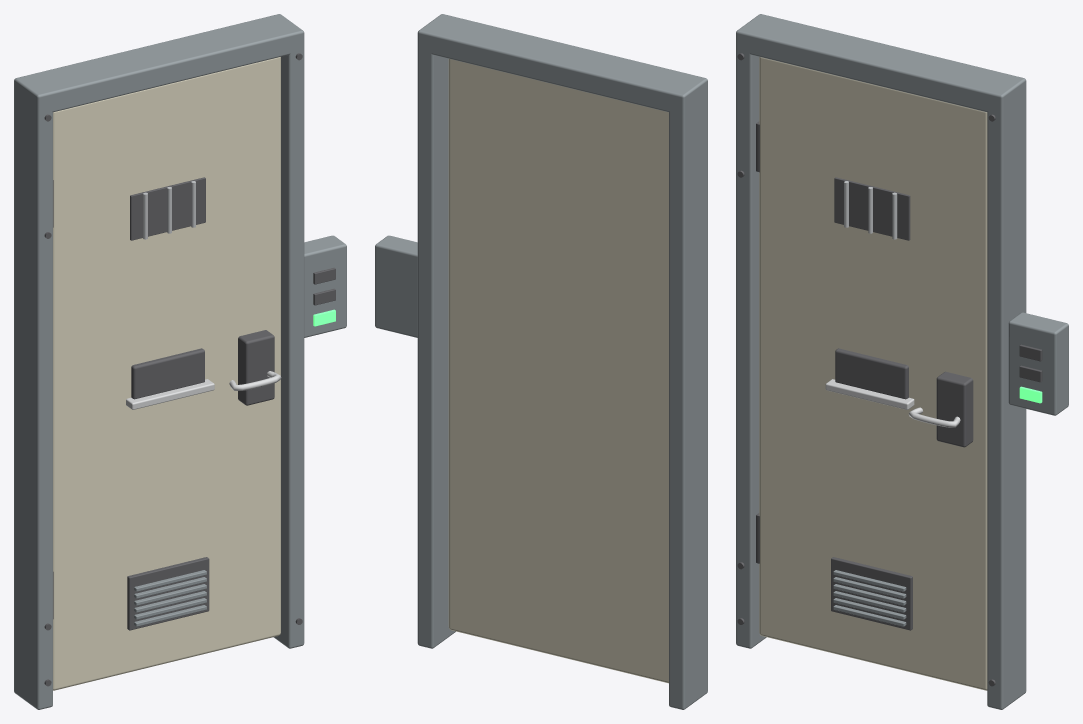
The model's file is prison-complex-builder-block-door-with-control-6676f632__25594.glb.
3 renders of one model, left to right at view 1: azimuth 30°, elevation 25°; view 2: azimuth 150°, elevation 25°; view 3: azimuth 330°, elevation 25°, orthographic.
Visible parts, largest first — view 1: cell-door/paintCream, block-door-with-control, cell-door/steelDark, cell-door/steelPainted, cell-door/stainless, cell-door/steelGalv; view 2: cell-door/paintCream, block-door-with-control; view 3: cell-door/paintCream, block-door-with-control, cell-door/steelDark, cell-door/steelPainted, cell-door/stainless, cell-door/steelGalv.
Boxes of the visible parts, x1,y1,x2,y2 form: cell-door/paintCream: [53, 57, 280, 690]; block-door-with-control: [14, 14, 346, 709]; cell-door/steelDark: [127, 177, 274, 630]; cell-door/steelPainted: [134, 570, 206, 626]; cell-door/stainless: [126, 371, 281, 409]; cell-door/steelGalv: [143, 181, 195, 239]; cell-door/paintCream: [448, 59, 668, 683]; block-door-with-control: [375, 14, 707, 709]; cell-door/paintCream: [759, 57, 987, 690]; block-door-with-control: [736, 14, 1068, 709]; cell-door/steelDark: [831, 177, 973, 630]; cell-door/steelPainted: [833, 570, 906, 626]; cell-door/stainless: [825, 379, 960, 427]; cell-door/steelGalv: [844, 181, 897, 239].
Size of the model in its own units: 1.18 by 2.2 by 0.2516.
